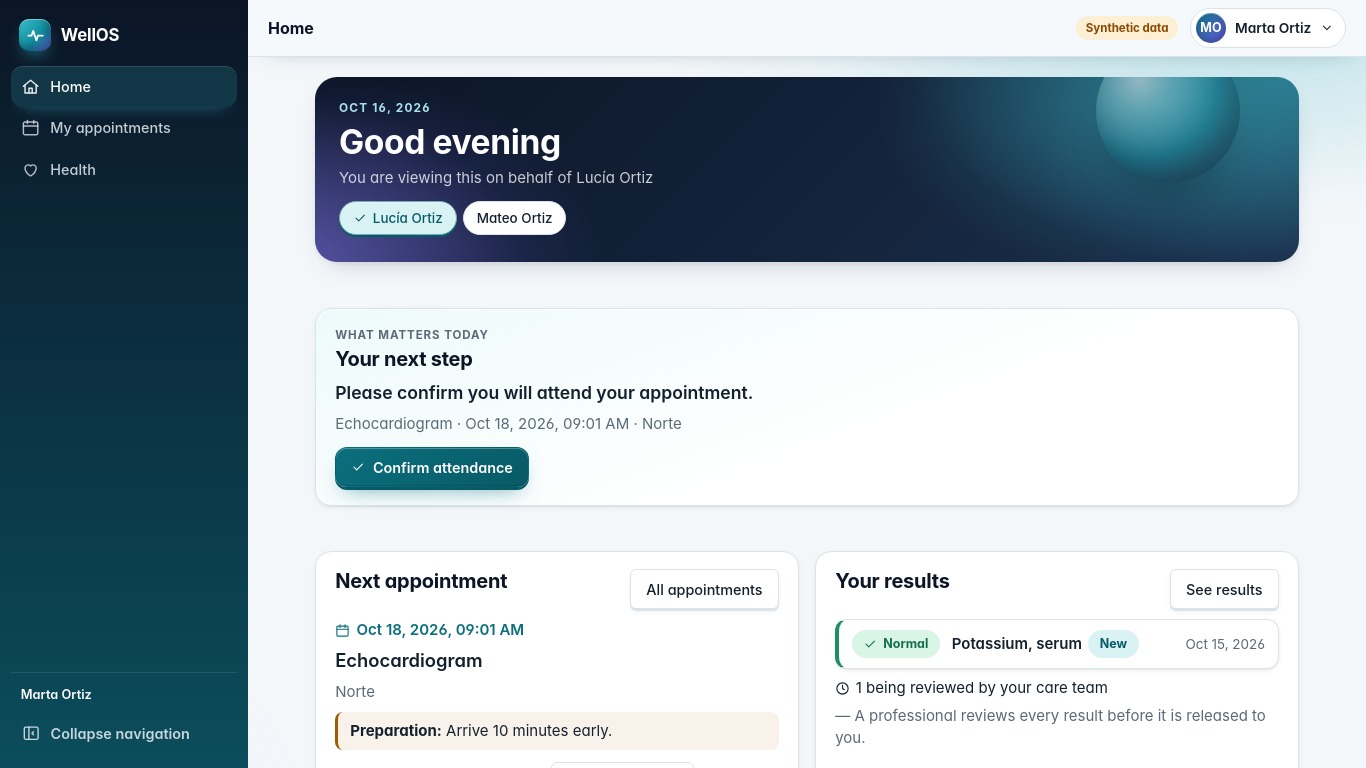
patient home /my › switches between dependants without leaking one child's data into the other's home
Expected: the text "Please confirm you will attend your appointment." is shown, [335,382,753,403]
Click the button "Mateo Ortiz". click: (515, 218)
box: [463,201,566,235]
(page scrolled)
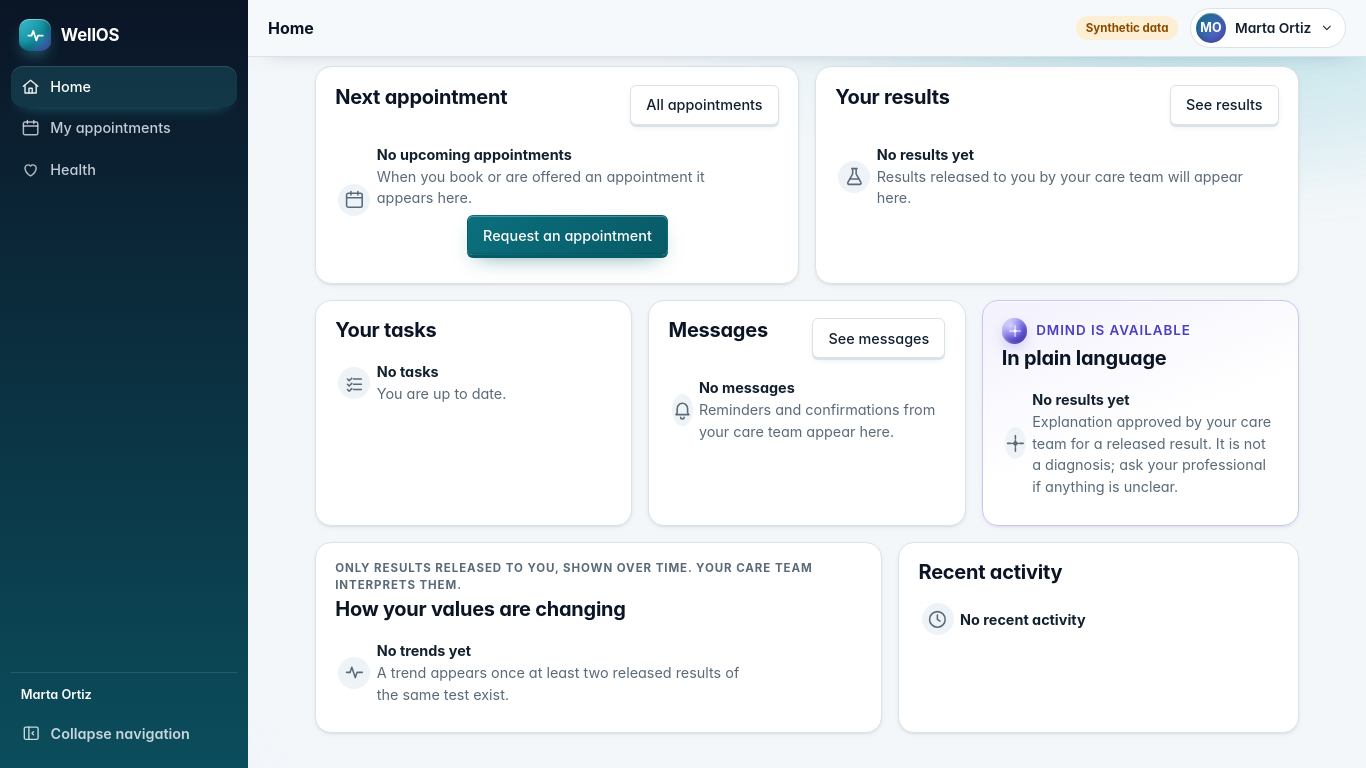
Expected: the text "No upcoming appointments" is shown, [377,146,572,163]
Expected: the text "Echocardiogram" is gone
Expected: the text "Potassium, serum" is gone
